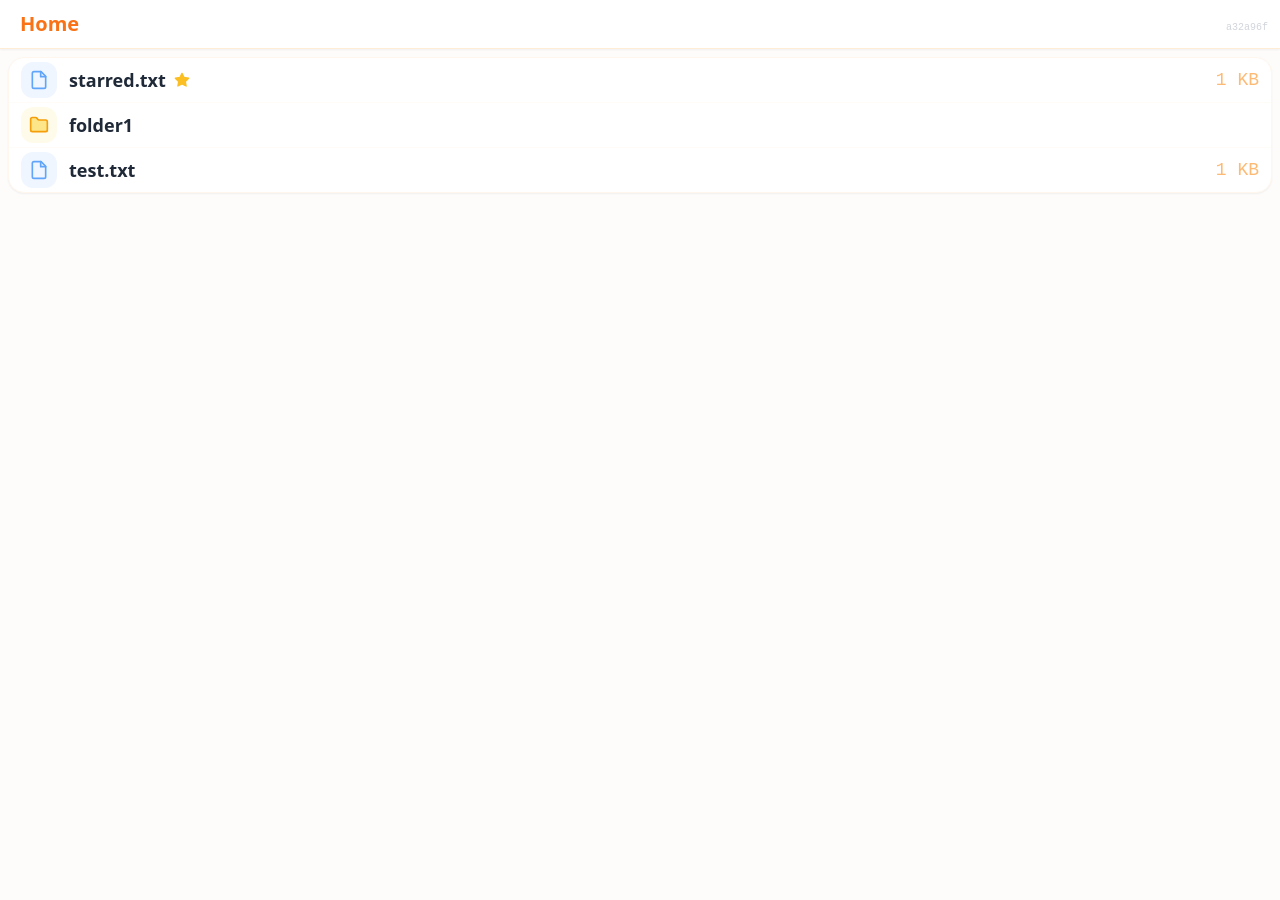
Scenario: context menu shows Star/Unstar, Delete, Rename
右鍵觸發 Context Menu
Right-click the text "test.txt".
right_click(640, 170)  # box x1=9 y1=147 x2=1271 y2=192
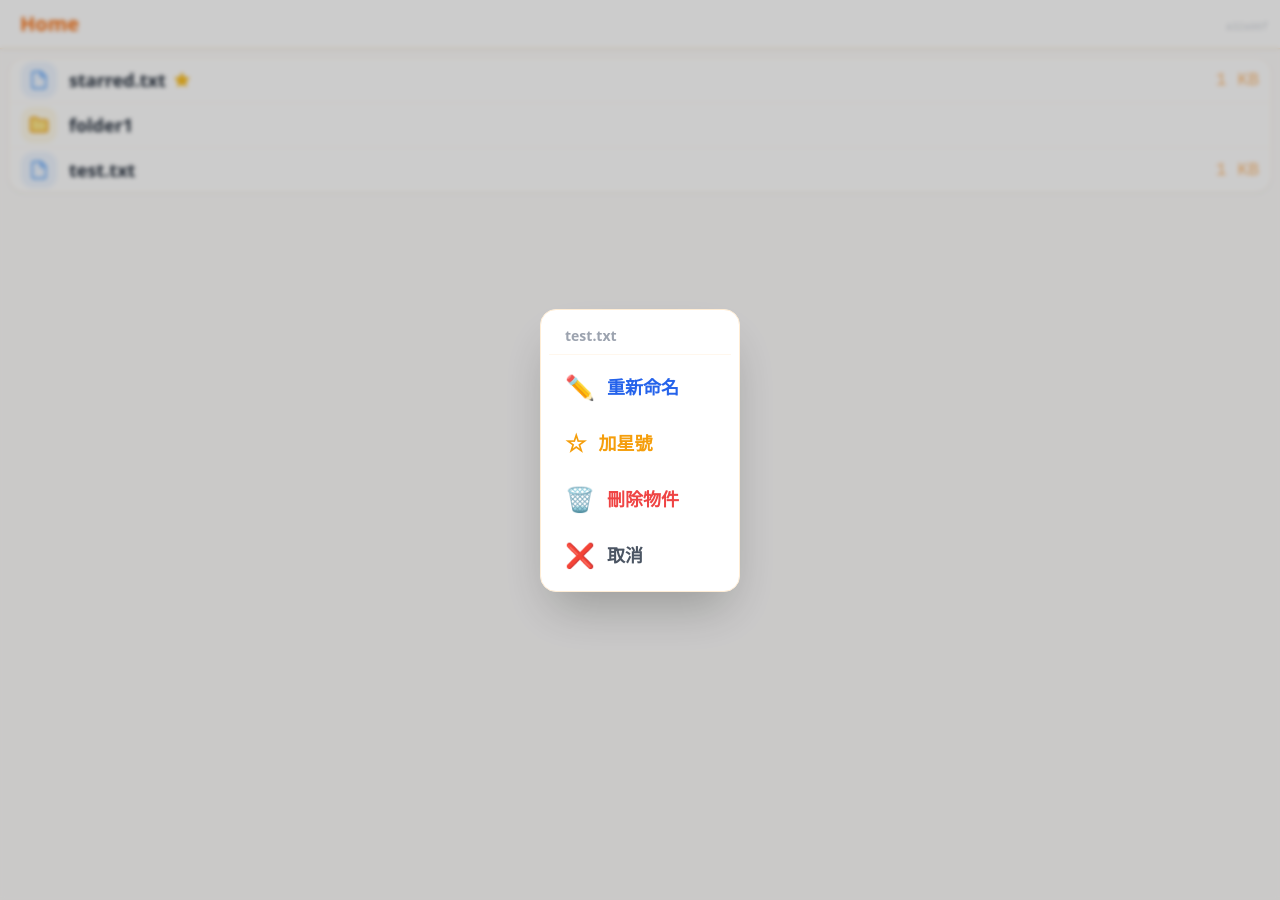
Check: the button "☆ 加星號" is shown, box x1=549 y1=414 x2=731 y2=470
Check: the button "✏️ 重新命名" is shown, box x1=549 y1=358 x2=731 y2=414
Check: the button "🗑️ 刪除物件" is shown, box x1=549 y1=470 x2=731 y2=526
